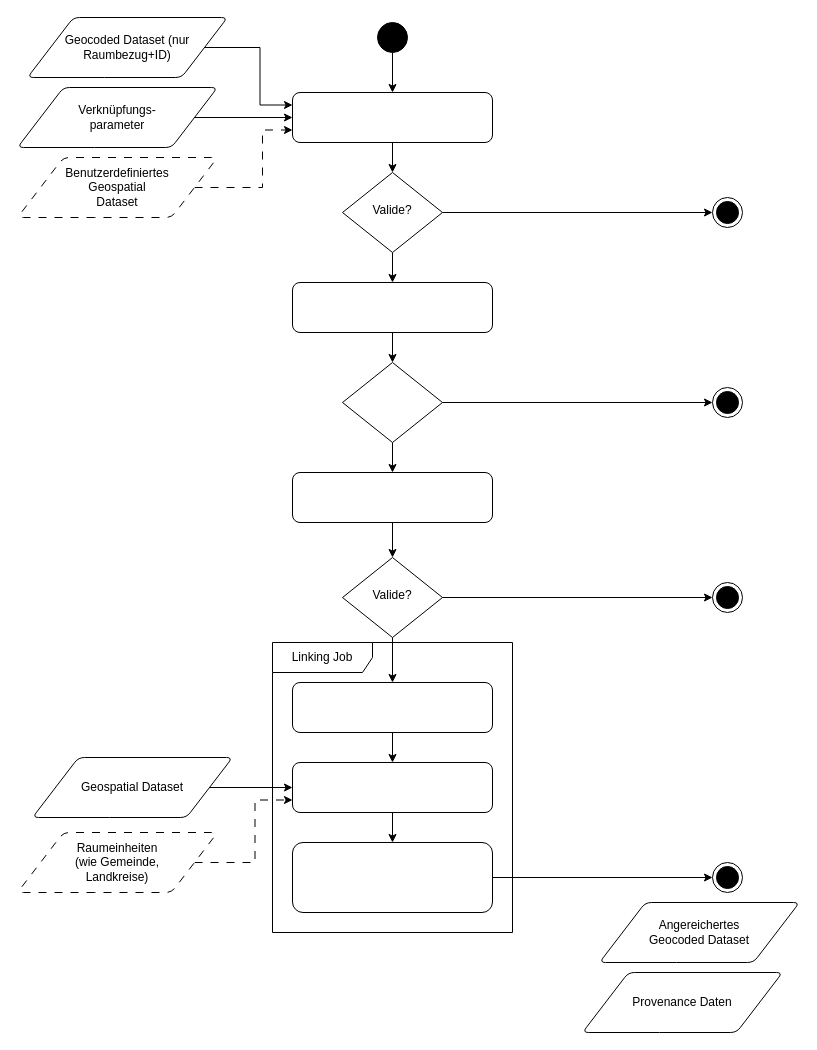
This 817x1050 diagram has some shape labels left out. Here are the shapes that lost their labels. From the top down, the centre of each, then its label:
At point 392,117: "Erste Validierung bzgl. Datenschema".
At point 392,307: "Nutzerauthentifizierung".
At point 392,402: "Authentifiziert?".
At point 392,497: "Validierung der Eingabedaten".
At point 392,707: "Neuer Job in Datenbank anlegen".
At point 392,787: "Bereitstellung aller benötigten Datensätze & Import in Datenbank".
At point 392,877: "Geolinking".
